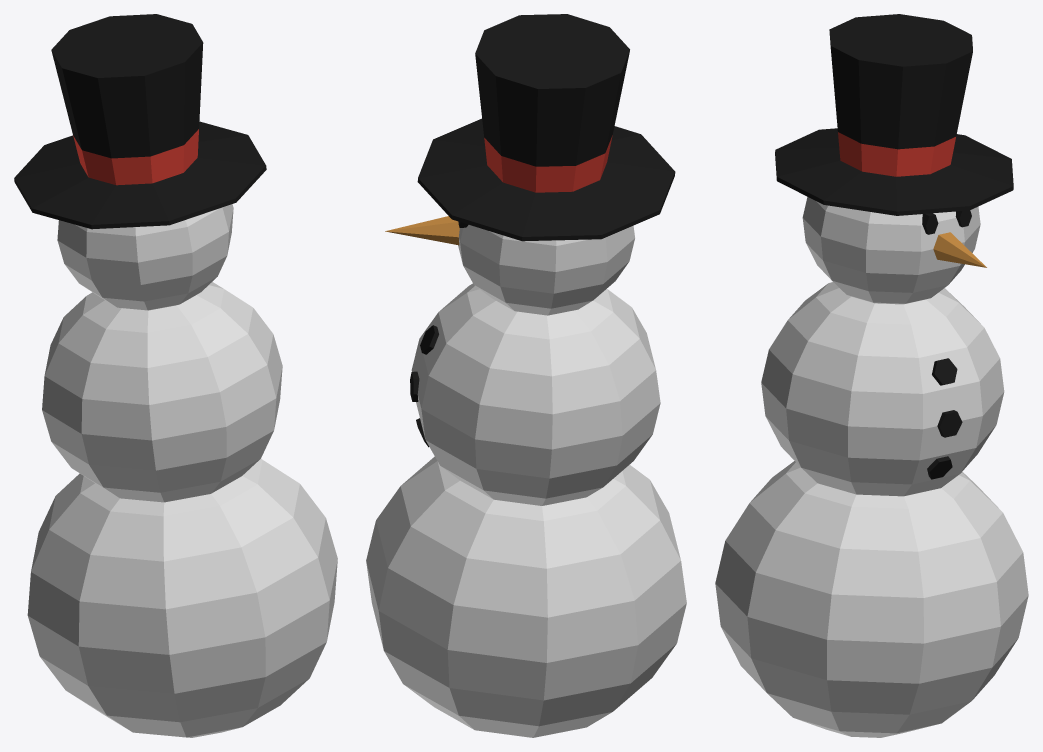
File: snowman.fbx
The picture shows the model from 3 angles, left to right: view 1: azimuth 30°, elevation 25°; view 2: azimuth 150°, elevation 25°; view 3: azimuth 270°, elevation 25°; orthographic projection. The views are drawn at different scales.
Visible parts, largest first — view 1: pSphere43; view 2: pSphere43; view 3: pSphere43.
Part boxes in pixels (x1,y1,x2,y2): pSphere43: [14, 14, 337, 737]; pSphere43: [366, 14, 686, 737]; pSphere43: [715, 14, 1028, 737].
Bounding box in the file's own units: 14261 × 34078 × 14456.
